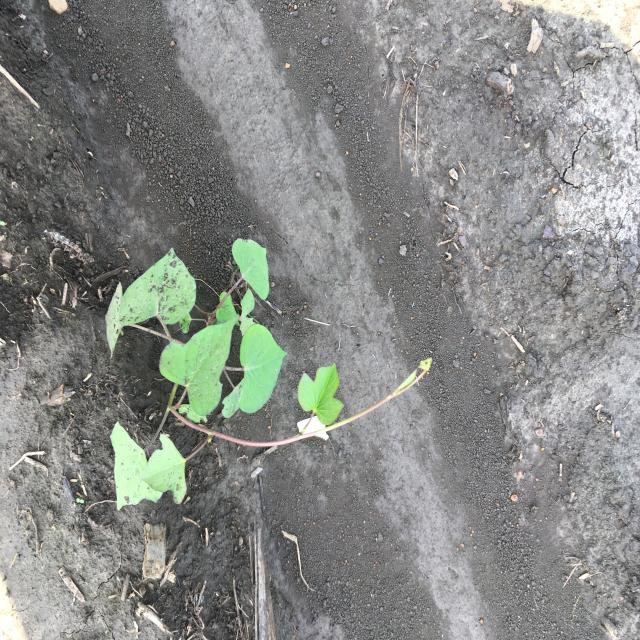MorningGlory: (103, 237, 434, 513)
